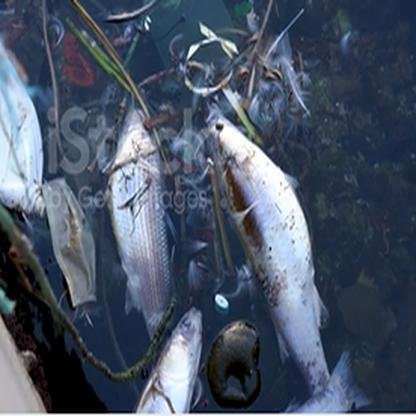deceased fish: (209, 114, 343, 396), (101, 108, 181, 351), (126, 308, 209, 415)
